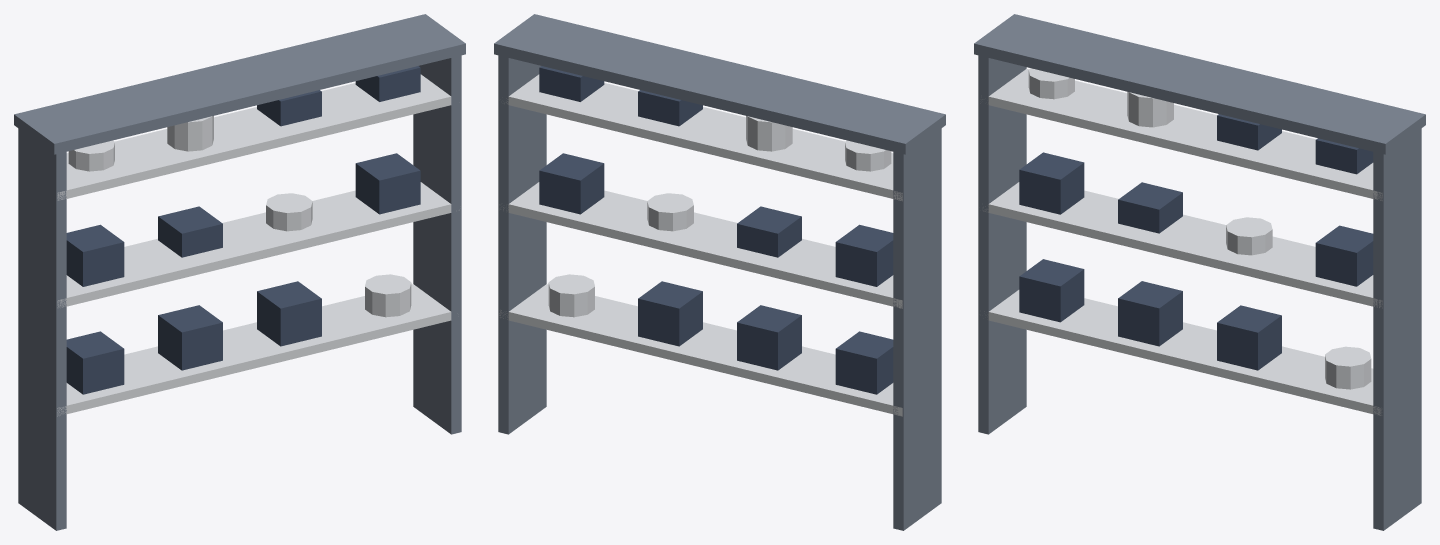
Rendered from wall_shelf.glb.
3 views of the same model, side by side, from view 1: azimuth 30°, elevation 25°; view 2: azimuth 150°, elevation 25°; view 3: azimuth 330°, elevation 25° (orthographic).
Parts seen in each view (by area): view 1: WallShelf; view 2: WallShelf; view 3: WallShelf.
Part boxes in pixels (box(x1,y1,x2,y2)): WallShelf: box(14, 14, 465, 530); WallShelf: box(494, 14, 945, 530); WallShelf: box(974, 14, 1425, 530).
Size of the model in its own units: 2 by 1.8 by 0.34.
